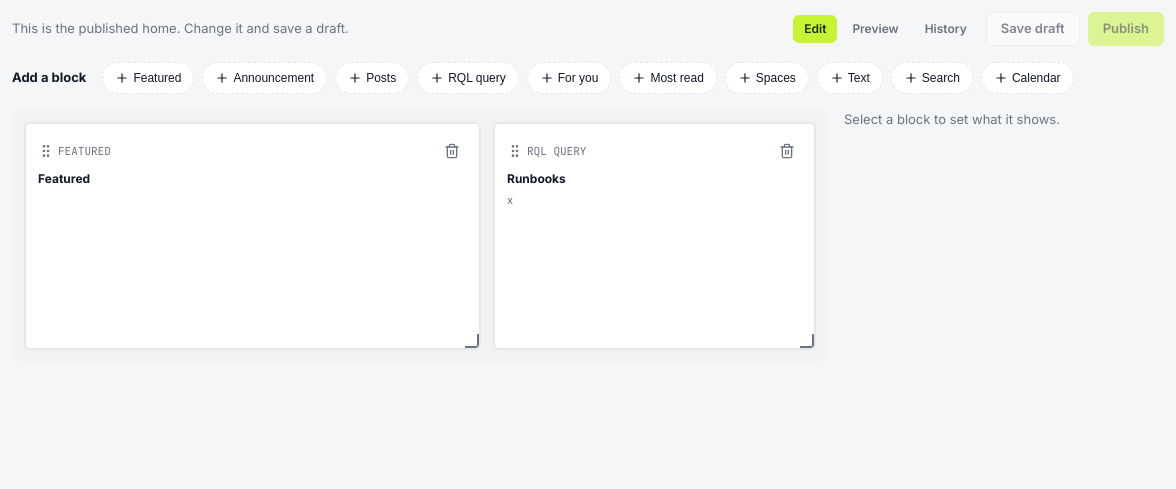
Test: HomeEditor › marks the block a 422 complains about
The width and height of the screenshot is (1176, 489).
Click the button "Search" at (932, 78), box [891, 62, 973, 94]
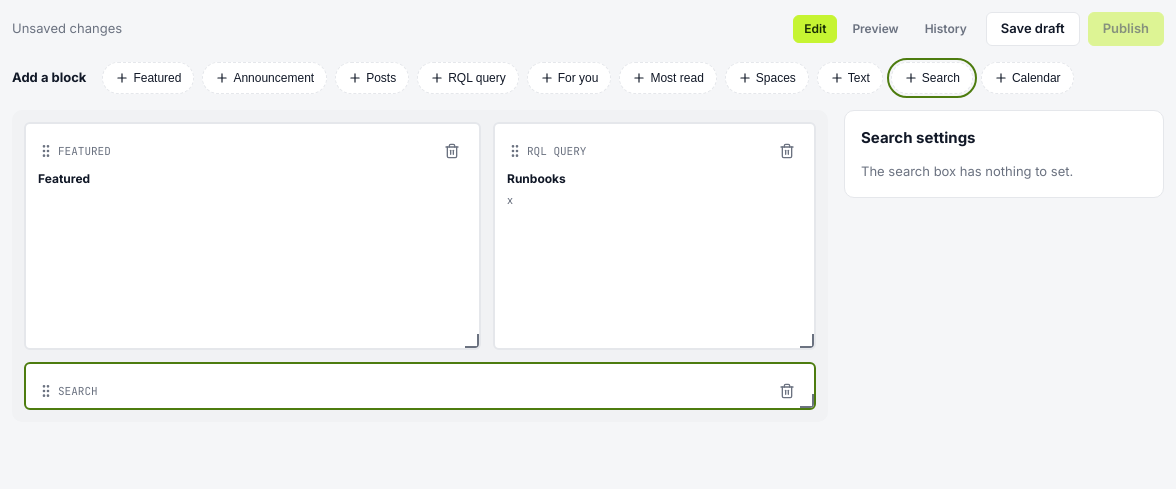
Click the button "Save draft" at (1033, 29), box [986, 12, 1080, 46]
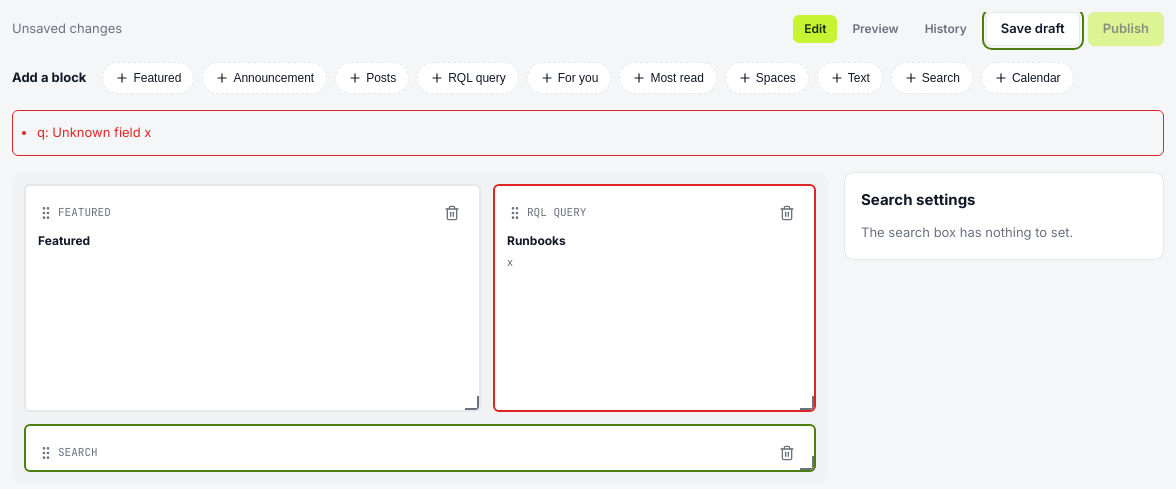
Result: the message "q: Unknown field x" is shown at [12, 110, 1164, 156]
